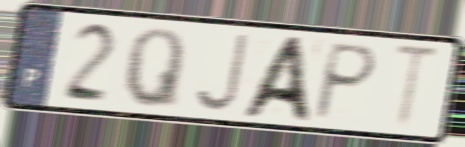2: (55, 22, 123, 104)
A: (235, 34, 315, 125)
J: (191, 31, 252, 115)
P: (309, 39, 381, 123)
Q: (120, 24, 188, 112)
T: (390, 41, 444, 134)
